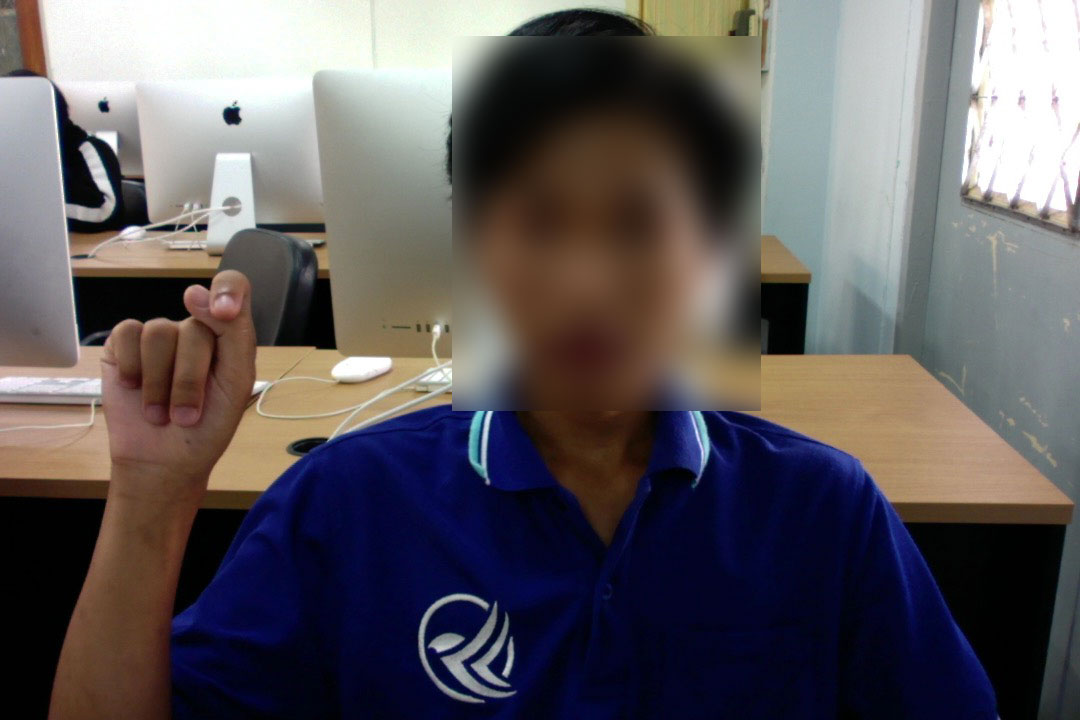tor: (97, 269, 255, 491)
